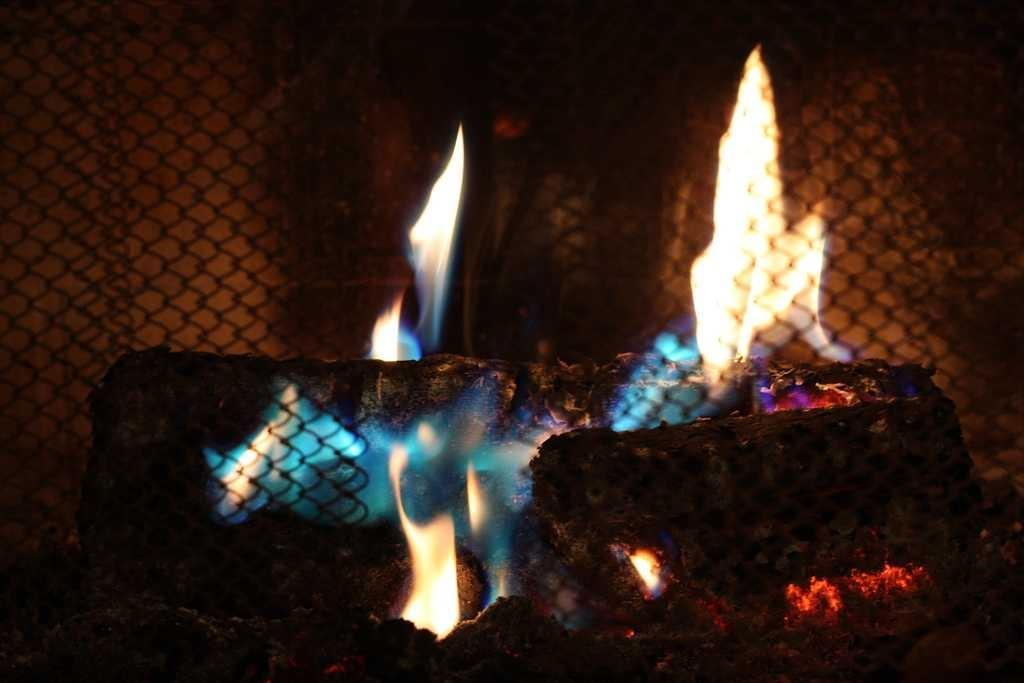fire: (287, 420, 527, 512), (710, 138, 815, 348), (418, 182, 463, 333), (408, 520, 465, 620)
